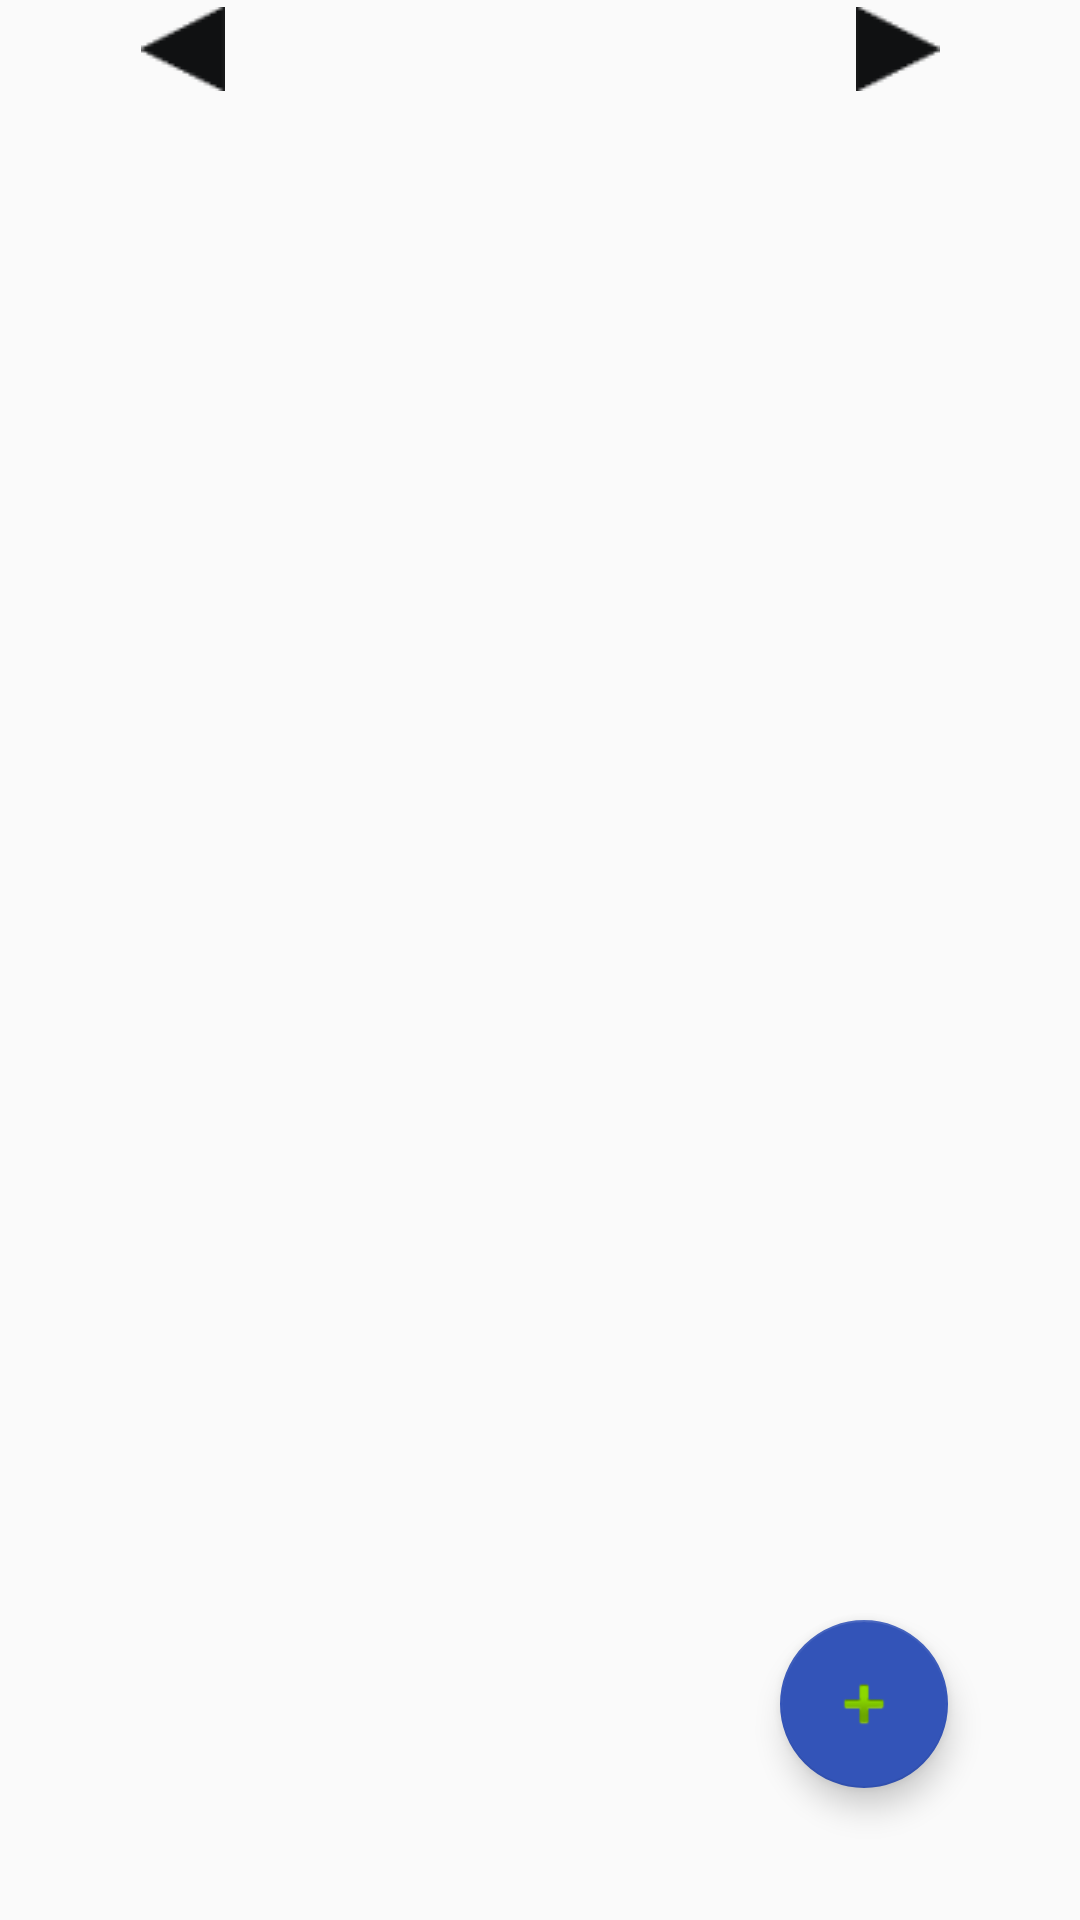

Icon bounding boxes for this 1080x1920 phone screenshot, format bbox(x1, y1, x2, y2):
add: bbox(780, 1620, 948, 1788)
lft slide: bbox(141, 7, 225, 91)
